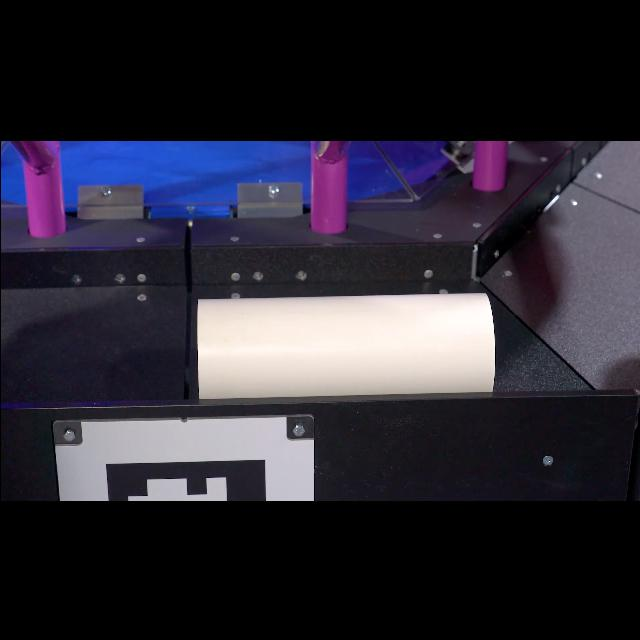CORAL: (195, 291, 495, 399)
